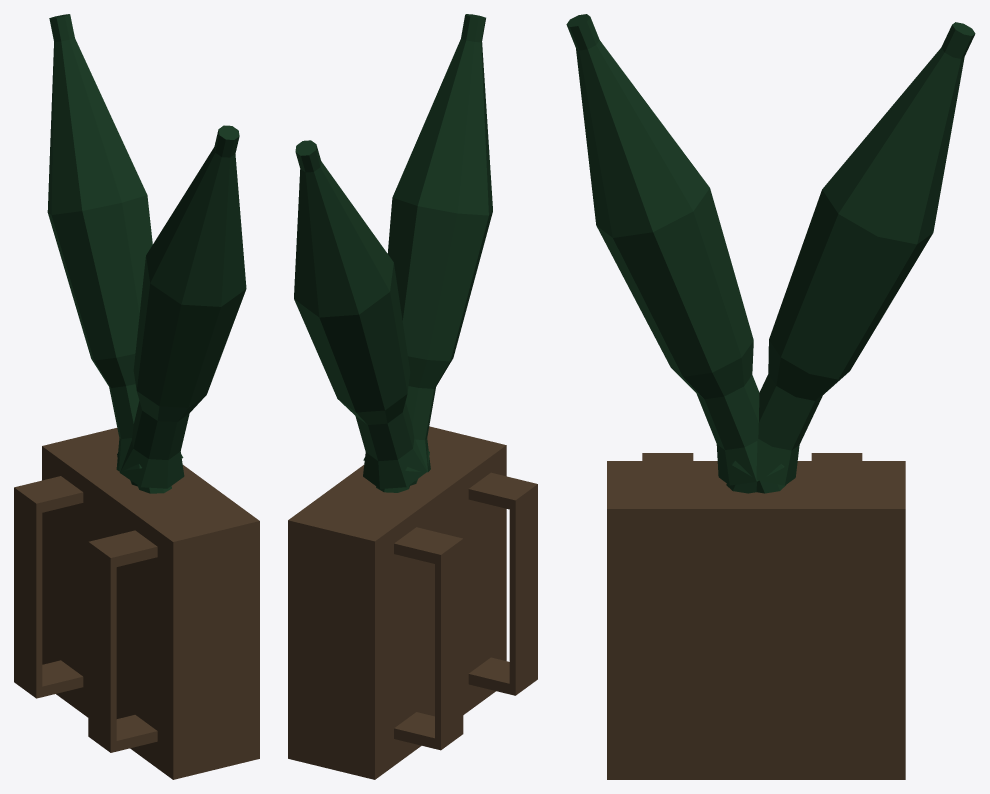
The model's file is RPG_Ammo.fbx.
3 renders of one model, left to right at view 1: azimuth 30°, elevation 25°; view 2: azimuth 150°, elevation 25°; view 3: azimuth 270°, elevation 25°, orthographic. The views are drawn at different scales.
Visible parts, largest first — view 1: RPG Ammo; view 2: RPG Ammo; view 3: RPG Ammo.
Boxes of the visible parts, bbox=[...] form: RPG Ammo: bbox=[14, 14, 259, 779]; RPG Ammo: bbox=[288, 14, 537, 779]; RPG Ammo: bbox=[566, 14, 975, 779].
Size of the model in its own units: 461 by 2097 by 1052.
